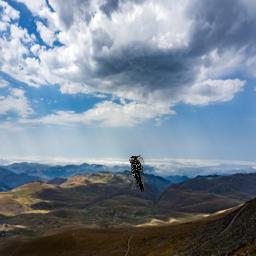Woodpecker: (129, 155, 148, 193)
